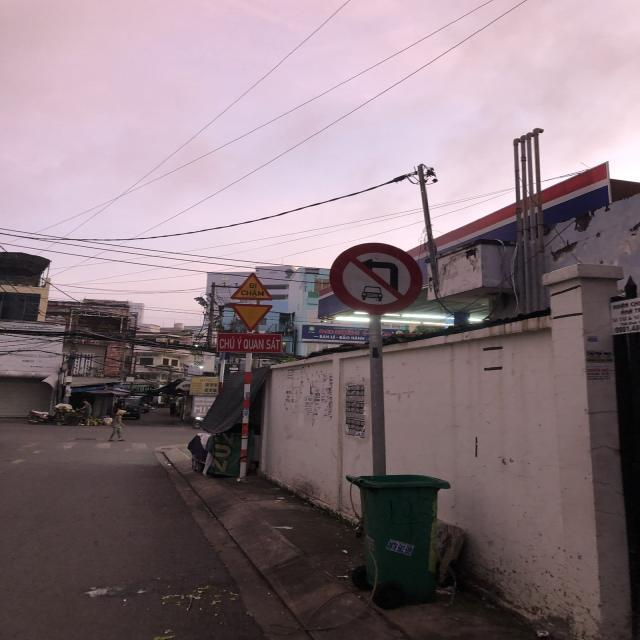Bien bao cam xe o to re trai: (324, 239, 428, 317)
Bien bao di cham: (226, 272, 276, 302)
Bien bao giao nhau voi duong uu tien: (229, 300, 274, 332)
